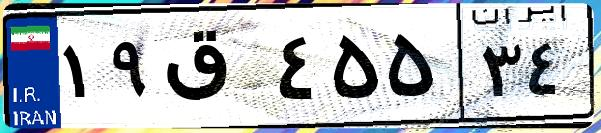1: (57, 26, 110, 100)
3: (475, 38, 525, 113)
4: (270, 28, 330, 110), (525, 38, 570, 115)
5: (385, 28, 445, 110), (330, 28, 385, 110)
9: (110, 28, 158, 98)
ق: (158, 20, 270, 120)
